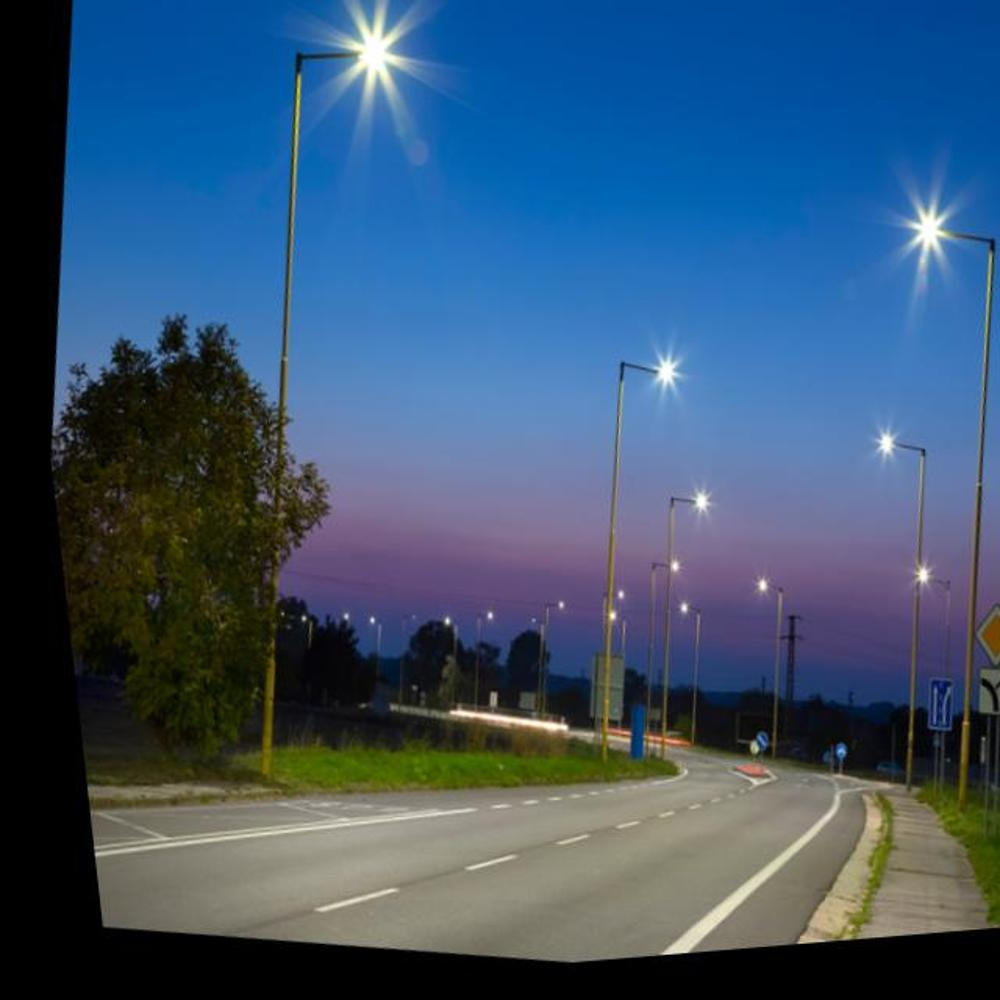shelf: (156, 0, 483, 808), (799, 209, 1000, 841), (526, 349, 704, 793), (793, 422, 964, 812)
